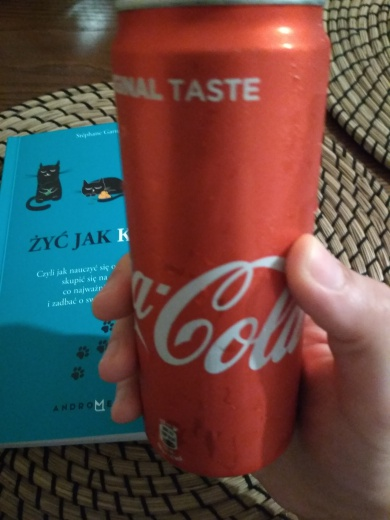cola: (107, 1, 337, 481)
